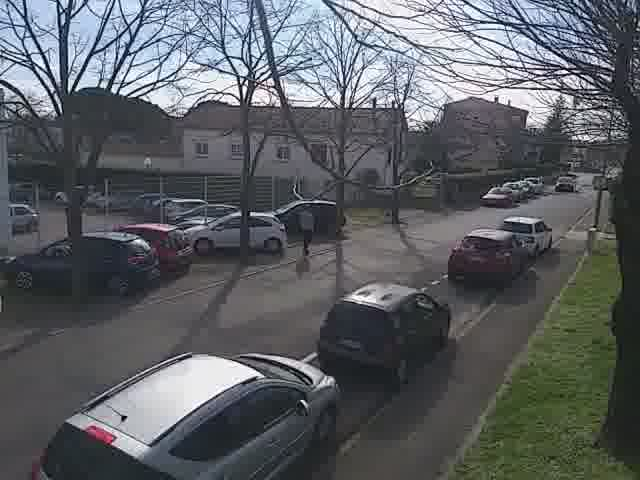persona: (291, 198, 321, 259)
